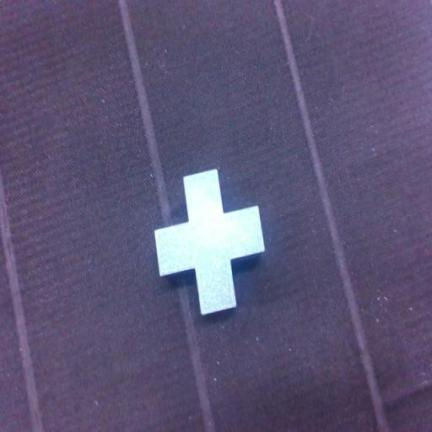cross: (156, 170, 264, 314)
